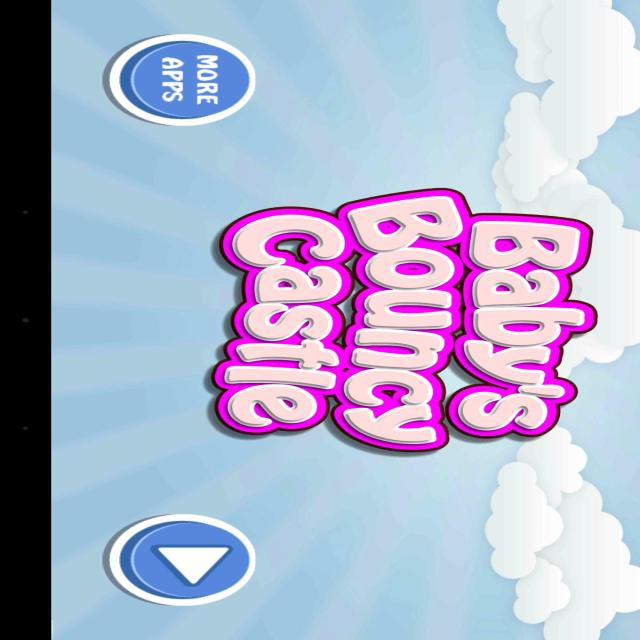button: (108, 32, 254, 129), (110, 515, 257, 607)
image: (51, 0, 640, 640)
text: (206, 186, 594, 456)
